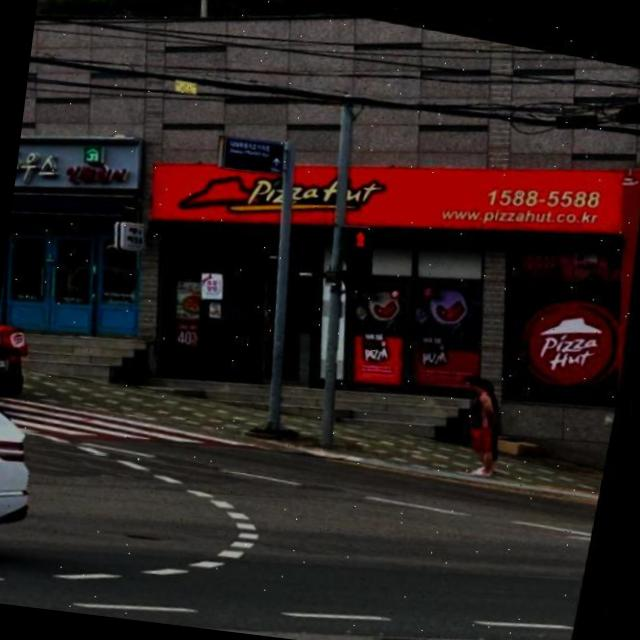red_light: (346, 220, 376, 244)
